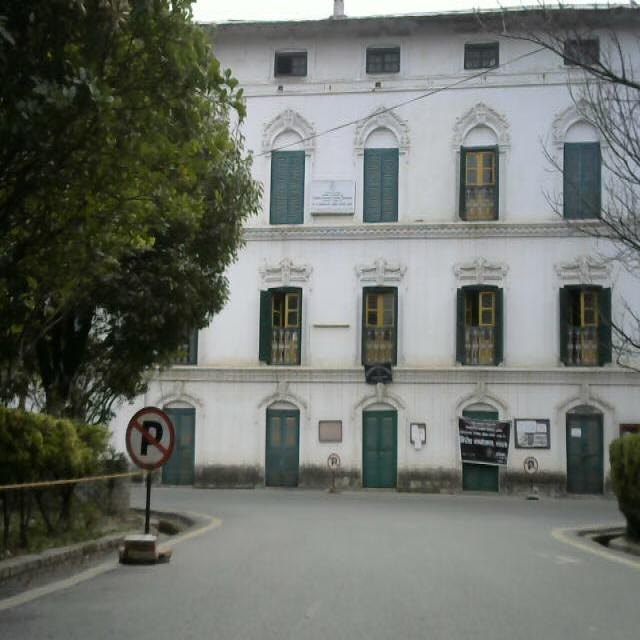Buildings: (206, 21, 620, 490)
NoParking: (323, 452, 348, 498), (519, 453, 539, 500)
Road: (70, 490, 640, 640), (116, 398, 170, 569)
trees: (0, 0, 233, 374)
